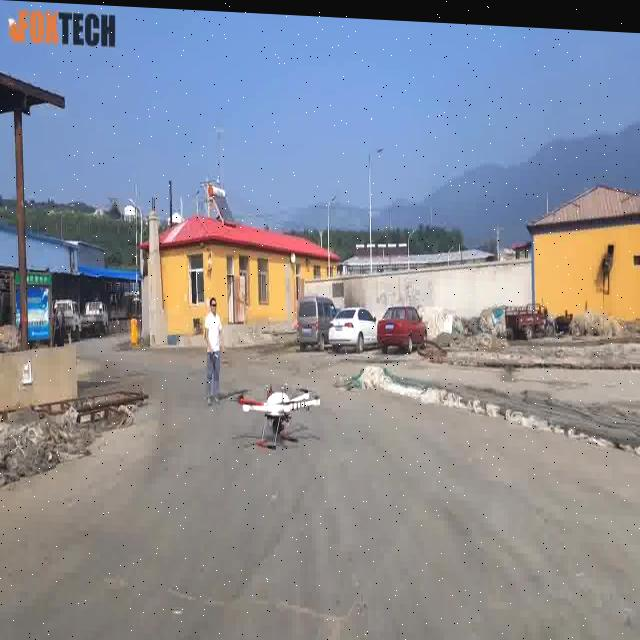drone: (234, 376, 322, 449)
